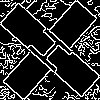H: (25, 25, 83, 82)
